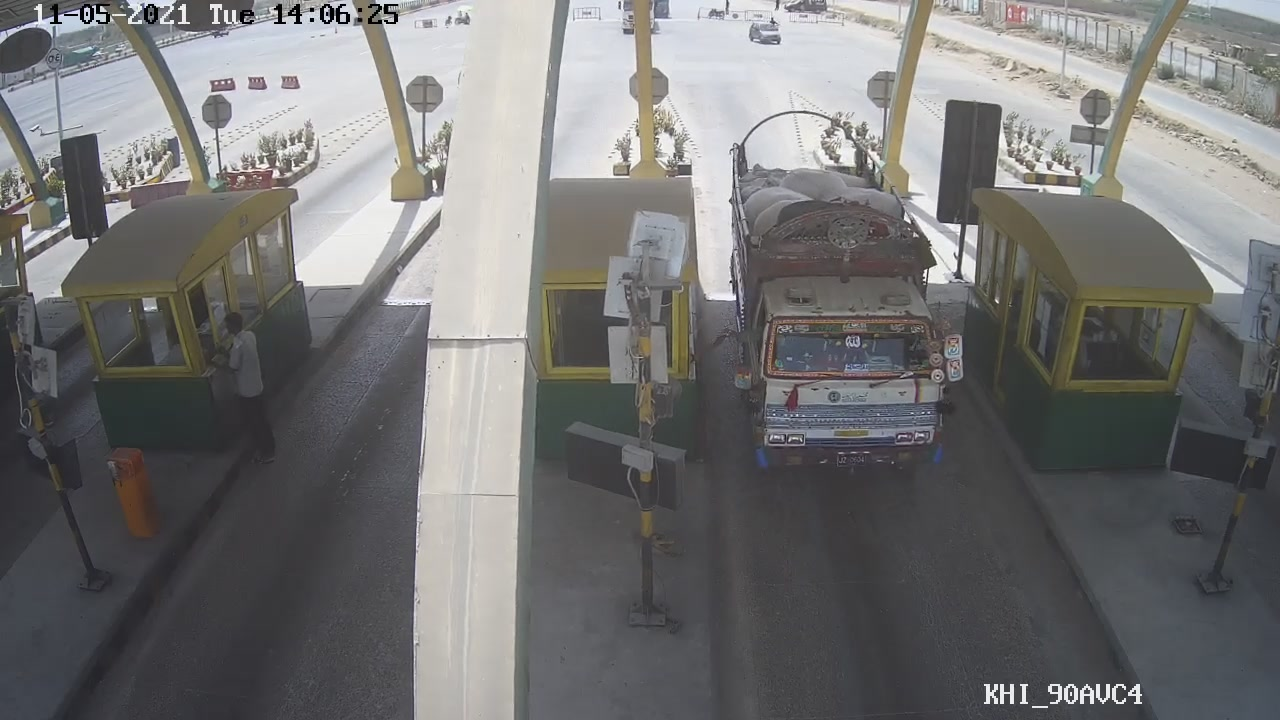F5: (726, 95, 965, 494)
